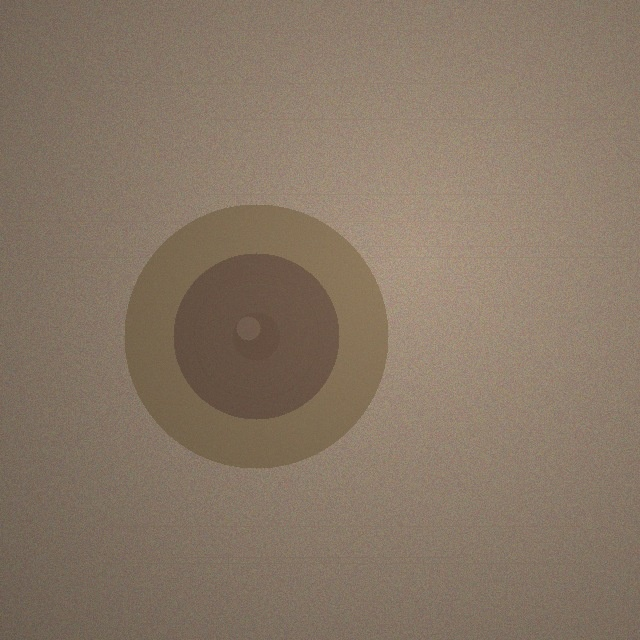good: (124, 204, 388, 468)
